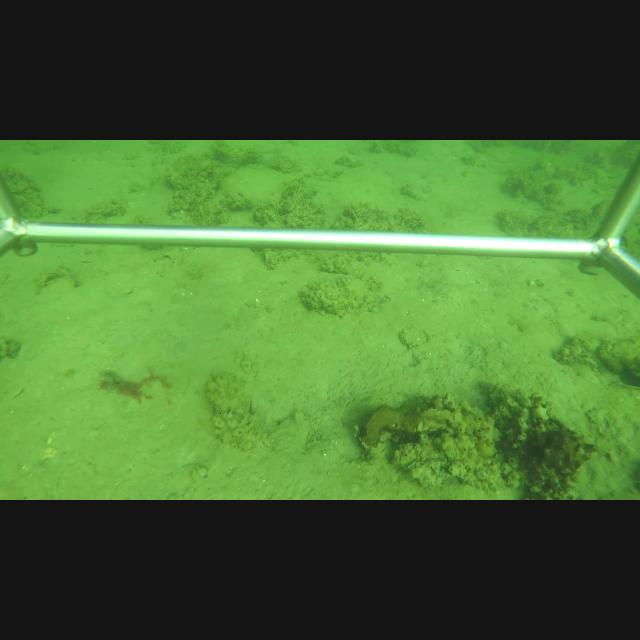Oyster-Closed: (397, 453, 448, 489), (549, 403, 594, 440), (399, 325, 429, 348)
